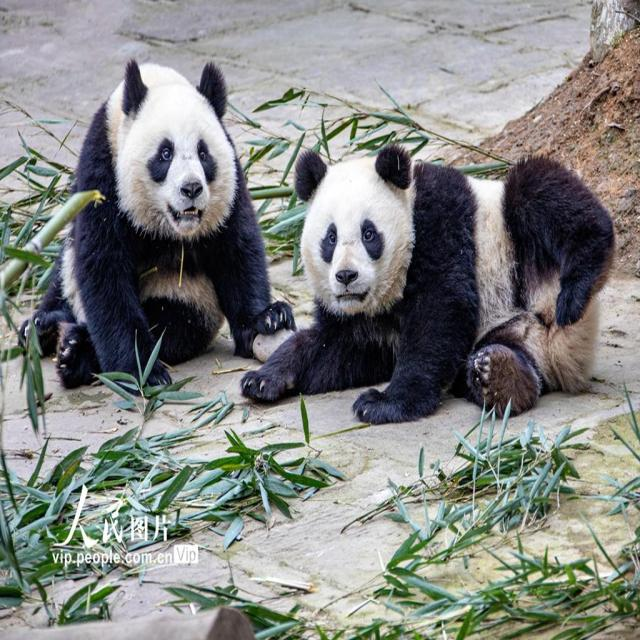panda: (20, 53, 623, 424)
